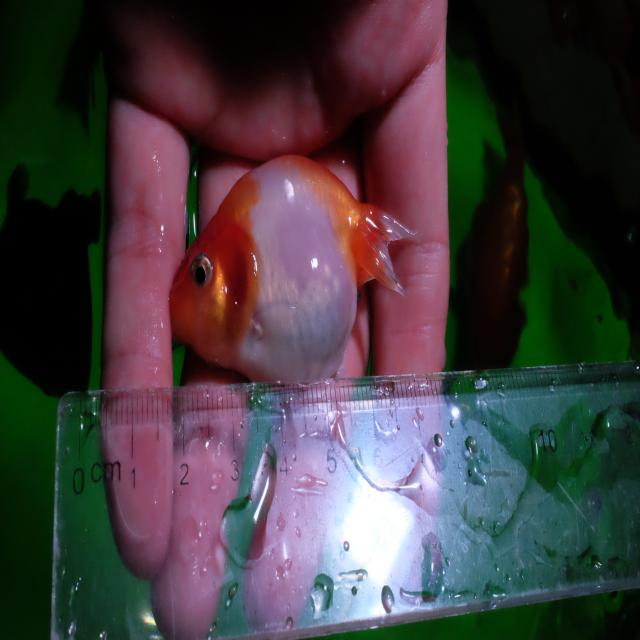Goldfish: (170, 153, 418, 381)
